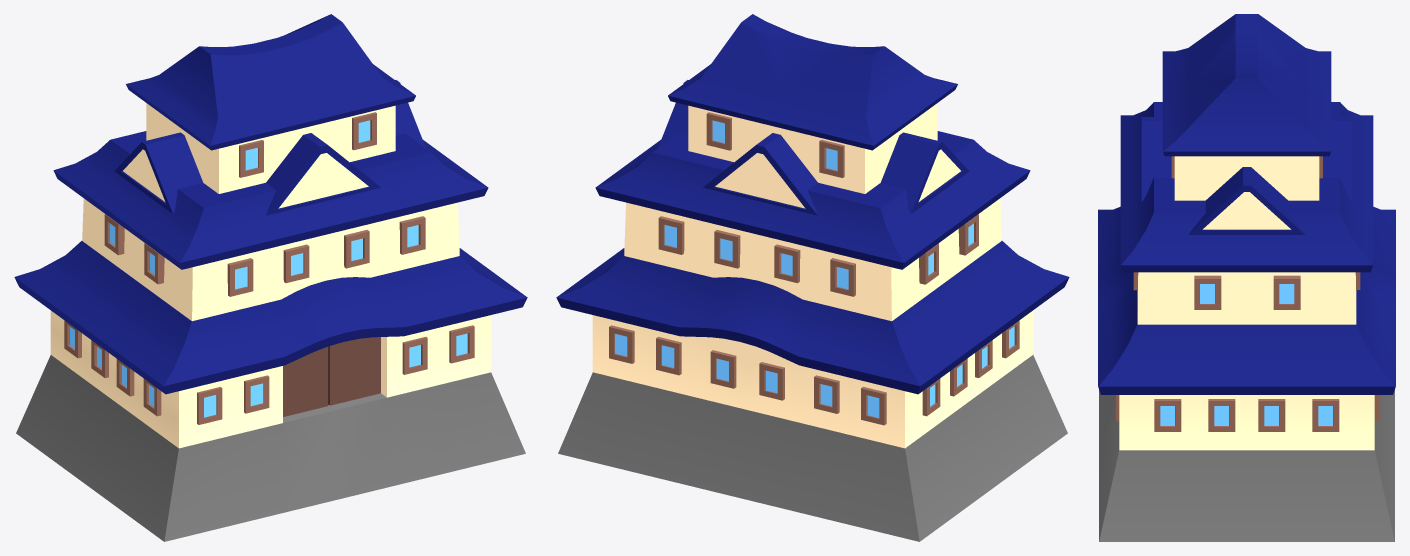
File: japanese_castle.gltf
3 views of the same model, side by side, from view 1: azimuth 30°, elevation 25°; view 2: azimuth 150°, elevation 25°; view 3: azimuth 270°, elevation 25° (orthographic).
Parts seen in each view (by area): view 1: Cube.501; view 2: Cube.501; view 3: Cube.501.
Boxes of the visible parts, bbox=[...] form: Cube.501: bbox=[14, 14, 527, 541]; Cube.501: bbox=[556, 14, 1069, 541]; Cube.501: bbox=[1098, 14, 1395, 541].
Bounding box in the file's own units: 2.03 × 2.19 × 1.44.
Materials: 1 (1 with a texture image).
